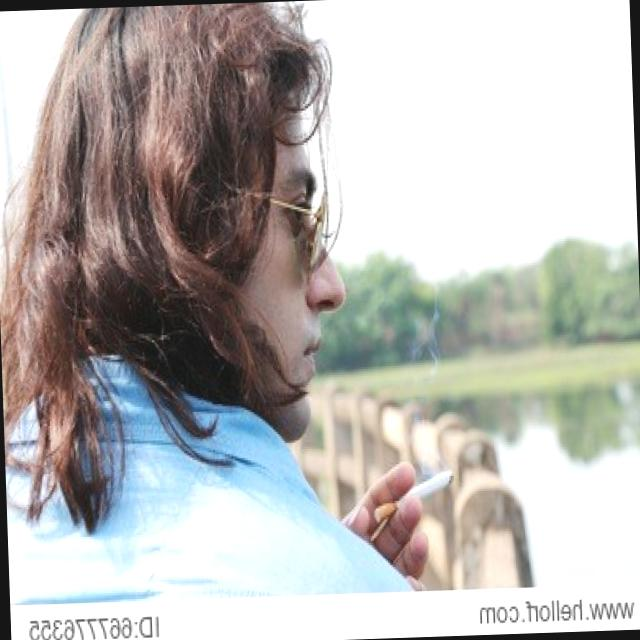cigarette: (404, 461, 462, 506)
